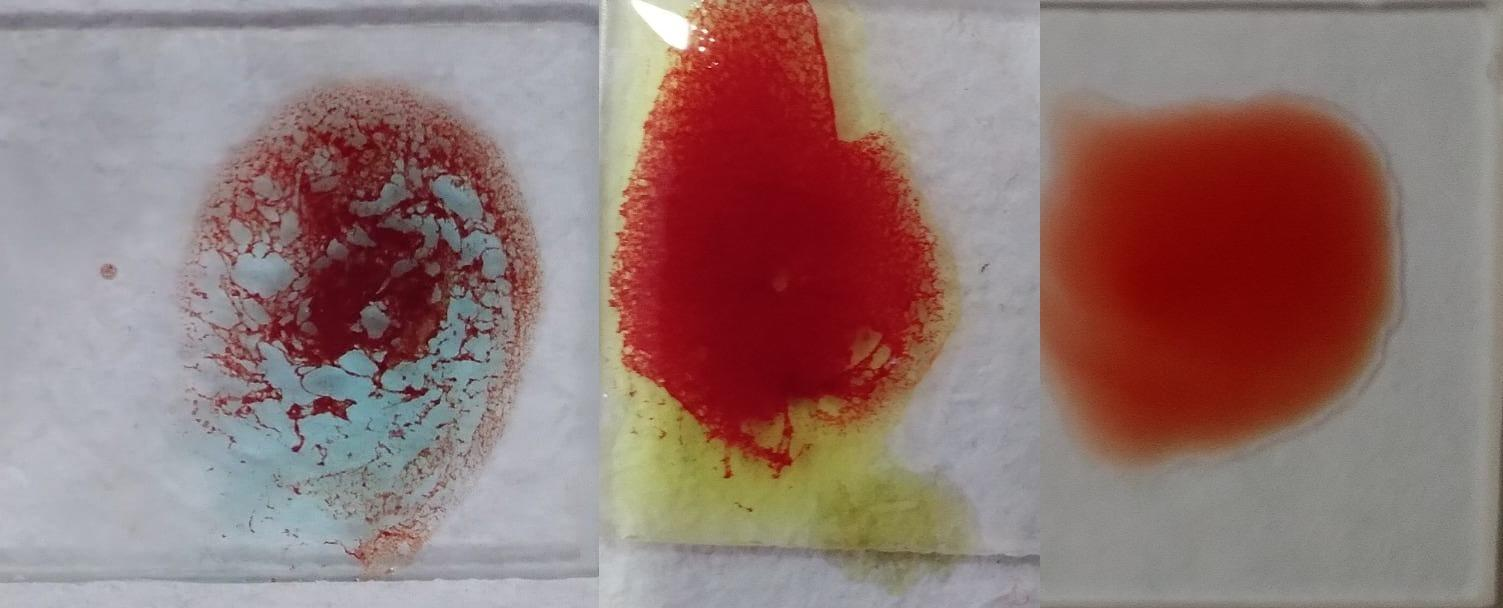A: (177, 76, 544, 566)
B: (606, 0, 963, 510)
